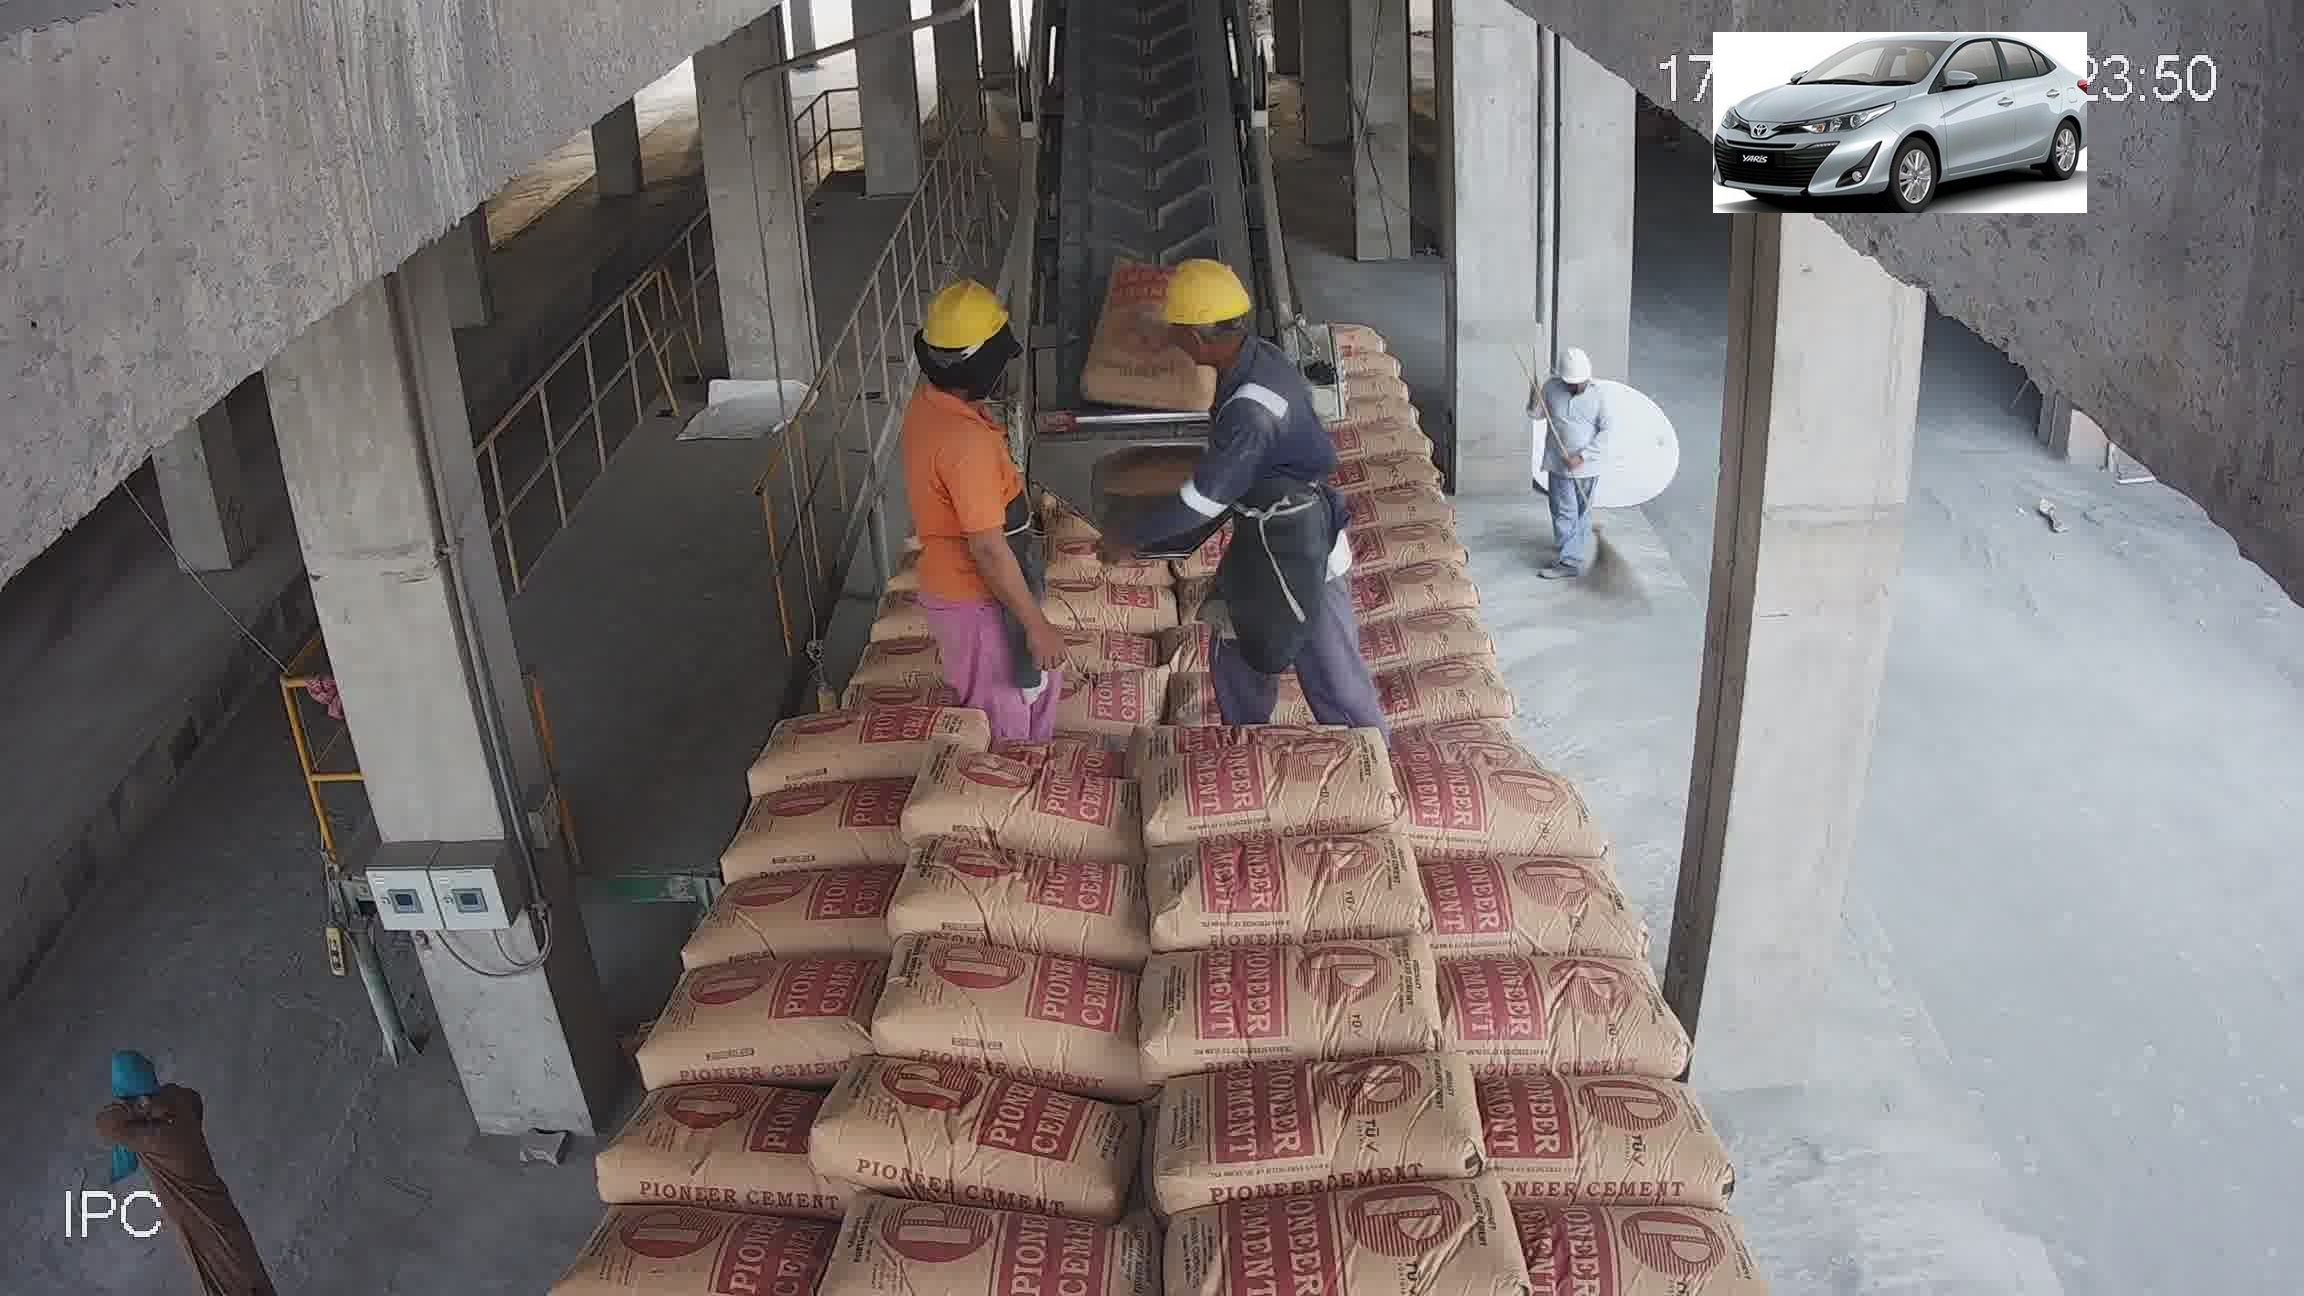bag: (1043, 8, 1241, 339), (1116, 290, 1198, 407), (1098, 30, 1206, 117)
bag_h: (1157, 1048, 1492, 1196), (1127, 938, 1454, 1070), (1131, 1184, 1529, 1285), (809, 1079, 1138, 1201), (1143, 818, 1423, 948), (853, 957, 1131, 1074), (1407, 954, 1701, 1063), (1138, 731, 1407, 847), (600, 1087, 840, 1211), (869, 832, 1125, 946), (1462, 1063, 1706, 1182), (1135, 650, 1375, 767), (638, 949, 869, 1067), (538, 1204, 832, 1296), (938, 657, 1176, 753), (1513, 1190, 1726, 1296), (813, 1209, 1108, 1285), (908, 753, 1139, 850), (934, 600, 1157, 696), (1389, 848, 1636, 935), (1146, 584, 1370, 676), (1139, 532, 1385, 616), (1389, 763, 1598, 858), (695, 873, 894, 964), (753, 699, 926, 802), (718, 785, 908, 878), (1386, 692, 1559, 780), (790, 536, 976, 608), (782, 642, 961, 714), (1367, 635, 1546, 696), (949, 571, 1139, 628), (828, 578, 972, 649), (1163, 497, 1323, 559), (984, 513, 1157, 559), (1294, 400, 1426, 460), (1340, 514, 1492, 563), (1358, 567, 1519, 612), (1337, 430, 1445, 495), (1339, 475, 1456, 524), (1048, 419, 1166, 457), (1060, 460, 1188, 495), (1320, 377, 1407, 419), (1305, 348, 1402, 385)
